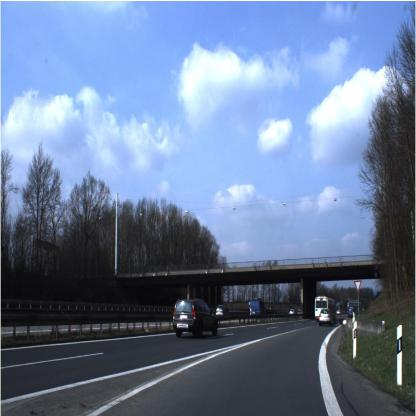other: (352, 276, 363, 293)
